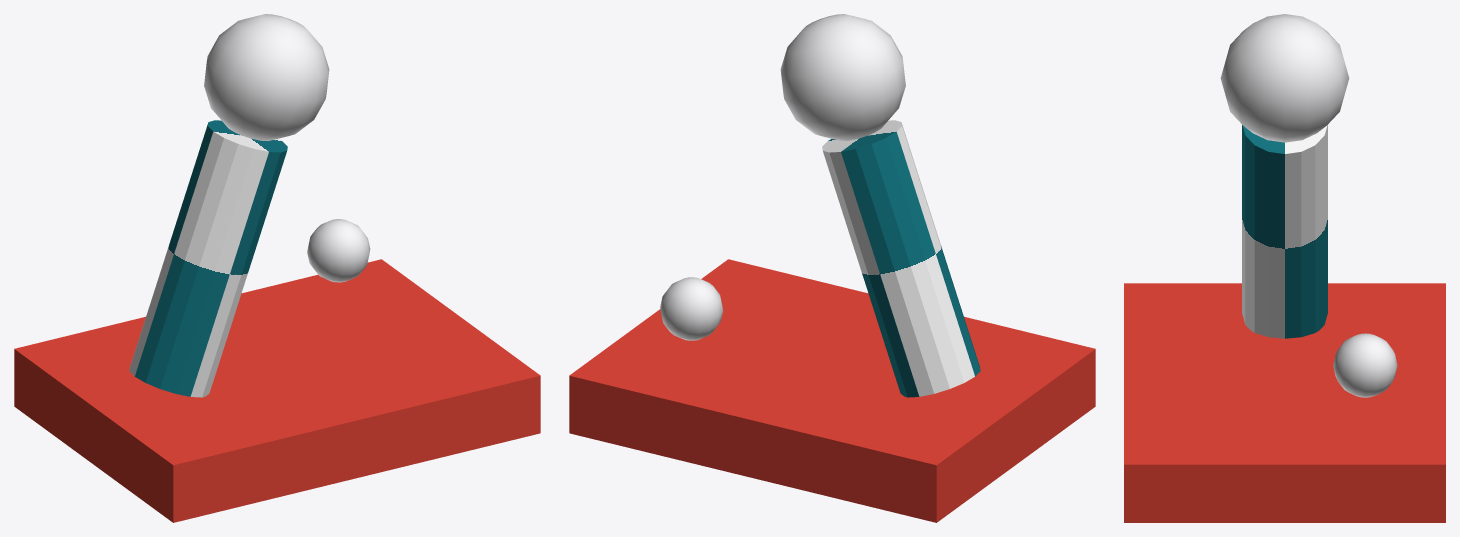
File: primitives.fbx
3 renders of one model, left to right at view 1: azimuth 30°, elevation 25°; view 2: azimuth 150°, elevation 25°; view 3: azimuth 270°, elevation 25°, orthographic.
Visible parts, largest first — view 1: Plinth, Column, Ball, Ball copy; view 2: Plinth, Column, Ball, Ball copy; view 3: Plinth, Column, Ball, Ball copy.
Part boxes in pixels (<box>): Plinth: <box>14,259,540,522</box>; Column: <box>129,120,287,397</box>; Ball: <box>204,14,329,140</box>; Ball copy: <box>307,219,370,282</box>; Plinth: <box>569,259,1095,522</box>; Column: <box>822,120,980,397</box>; Ball: <box>780,14,905,140</box>; Ball copy: <box>660,277,723,340</box>; Plinth: <box>1124,283,1445,522</box>; Column: <box>1242,125,1327,338</box>; Ball: <box>1220,14,1349,142</box>; Ball copy: <box>1333,333,1397,397</box>.
Bounding box in the file's own units: 80 × 83.76 × 60.
3 materials, 1 textured.
